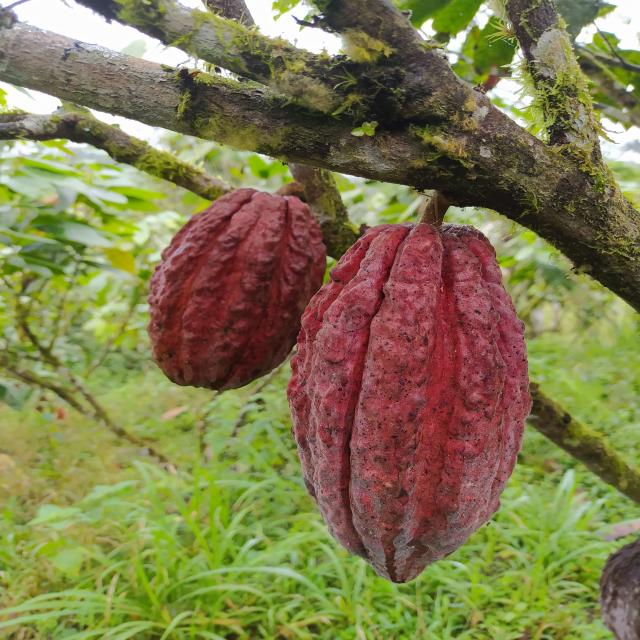Sana: (286, 223, 530, 583), (149, 188, 327, 389)
